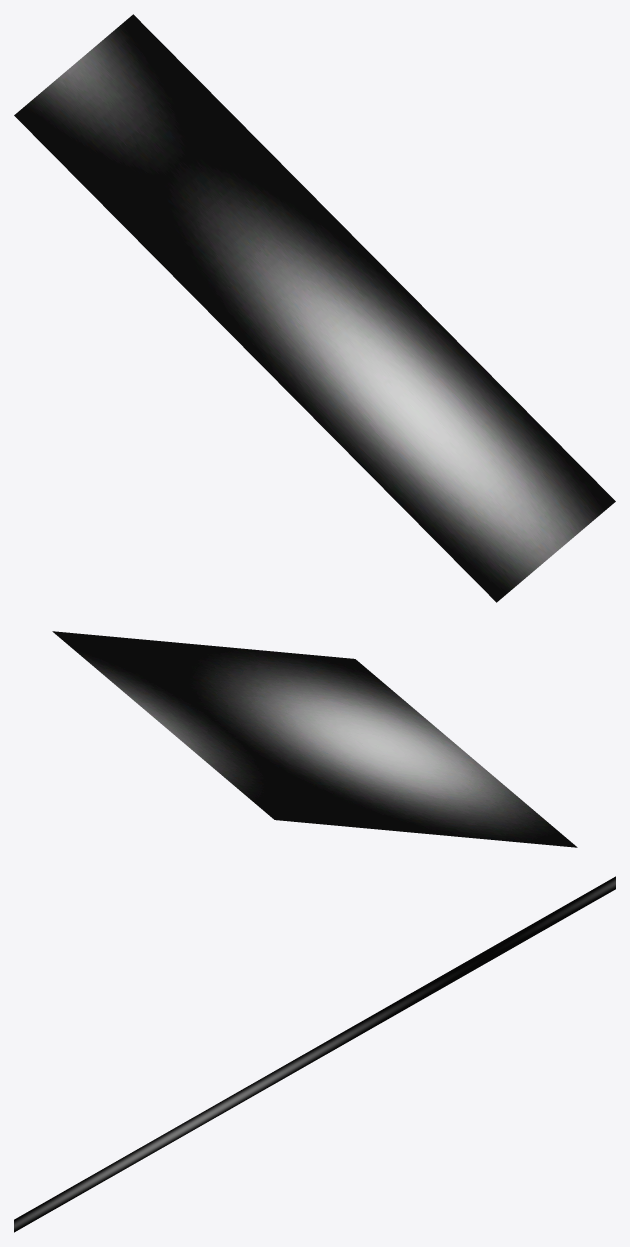
File: vfx_kurp_0685.dae
3 views of the same model, one above another, from view 1: azimuth 30°, elevation 25°; view 2: azimuth 150°, elevation 25°; view 3: azimuth 270°, elevation 25° (orthographic). The views are drawn at different scales.
Parts seen in each view (by area): view 1: vfx_kurp_0685; view 2: vfx_kurp_0685; view 3: vfx_kurp_0685.
Part boxes in pixels (x1=…): vfx_kurp_0685: x1=14, y1=14, x2=615, y2=602; vfx_kurp_0685: x1=52, y1=631, x2=577, y2=847; vfx_kurp_0685: x1=14, y1=876, x2=615, y2=1232.
Bounding box in the file's own units: 2.45 × 4.9 × 3.03.
Materials: 1 (1 with a texture image).
